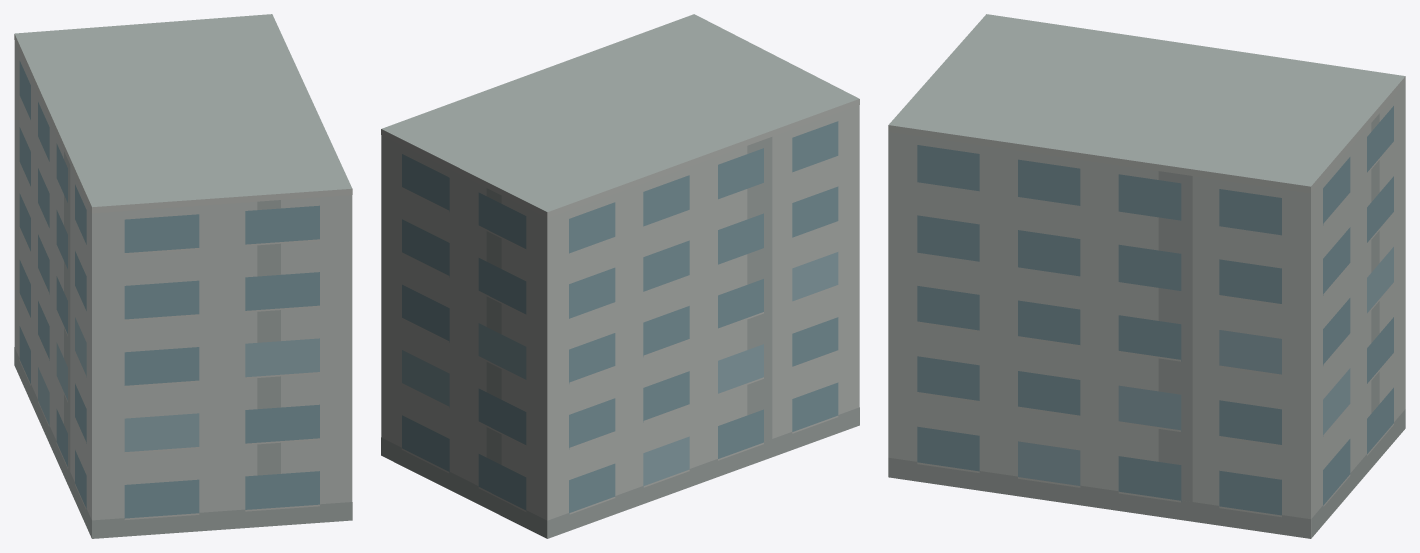
The model's file is survey-upis-33013047.glb.
The picture shows the model from 3 angles, left to right: view 1: azimuth 30°, elevation 25°; view 2: azimuth 150°, elevation 25°; view 3: azimuth 270°, elevation 25°; orthographic projection. The views are drawn at different scales.
Visible parts, largest first — view 1: survey-upis-33013047.tmp; view 2: survey-upis-33013047.tmp; view 3: survey-upis-33013047.tmp.
Part boxes in pixels (<box>): survey-upis-33013047.tmp: <box>14,14,352,538</box>; survey-upis-33013047.tmp: <box>381,14,859,538</box>; survey-upis-33013047.tmp: <box>888,14,1405,538</box>.
Size of the model in its own units: 13.67 by 13 by 17.31.
